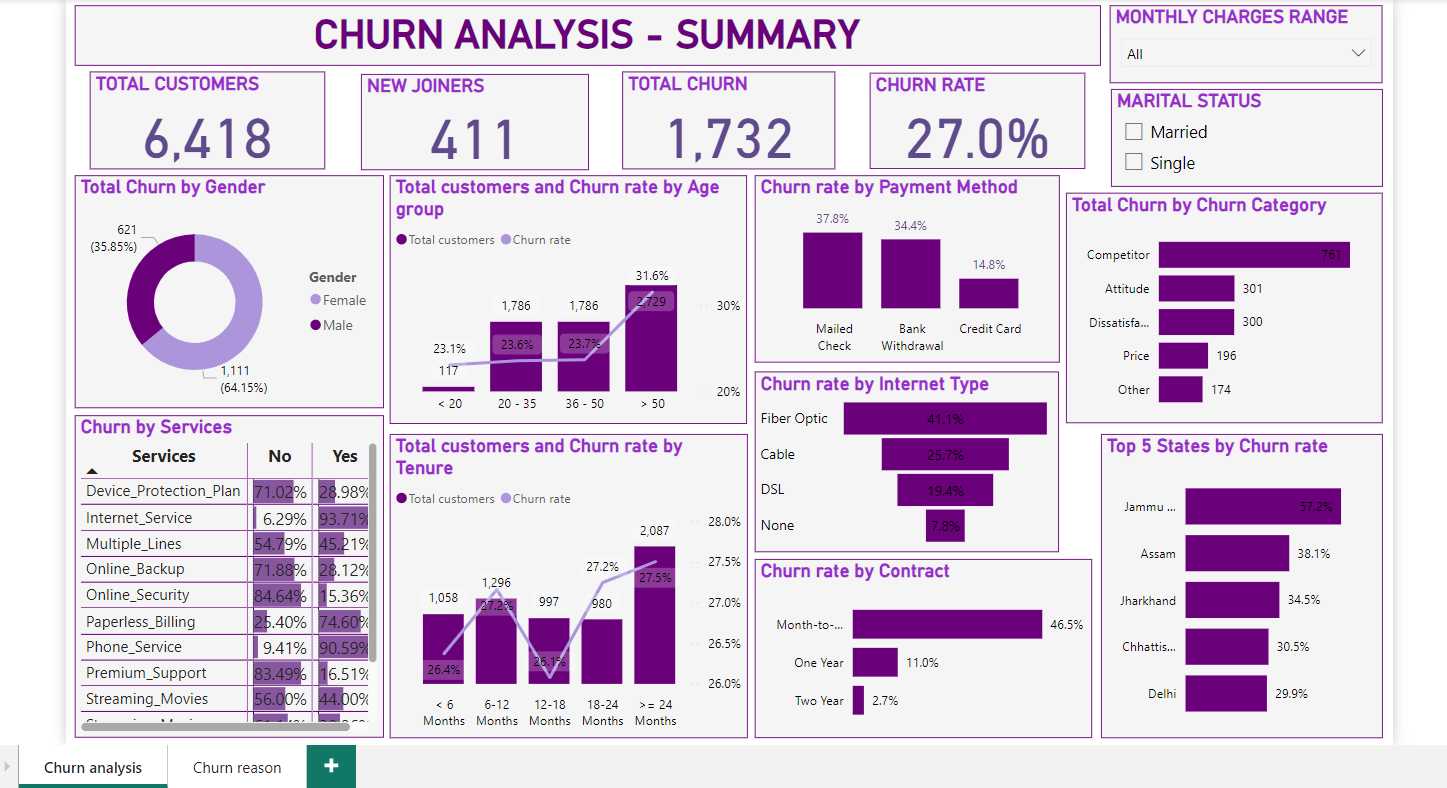

The page's visual inventory and layout, read from the dashboard file:
{"tool":"powerbi","page":{"name":"Churn analysis","canvas":[1280,720],"ordinal":0},"visuals":[{"type":"card","title":"TOTAL CUSTOMERS","fields":{"Values":["Table_measures.Total customers"]},"box":[22.9,70,227.1,94.3],"z":0},{"type":"card","title":"TOTAL CHURN","fields":{"Values":["Table_measures.Total Churn"]},"box":[537.1,70,205.7,94.3],"z":1000},{"type":"card","title":"NEW JOINERS","fields":{"Values":["Table_measures.New Joiners"]},"box":[284.3,72.9,220,92.9],"z":2000},{"type":"card","title":"CHURN RATE","fields":{"Values":["Table_measures.Churn rate"]},"box":[775.8,71.7,208.3,92.5],"z":3000},{"type":"donutChart","fields":{"Category":["Churn_details.Gender"],"Y":["Table_measures.Total Churn"]},"box":[8.3,170,298.3,225],"z":4000},{"type":"lineStackedColumnComboChart","title":"Total customers and Churn rate by Age group","fields":{"Category":["age_group.age group"],"Y2":["Table_measures.Churn rate"],"Y":["Table_measures.Total customers"]},"box":[312.5,170,345,240],"z":5000},{"type":"clusteredColumnChart","title":"Churn rate by Payment Method","fields":{"Category":["Churn_details.Payment_Method"],"Y":["Table_measures.Churn rate"]},"box":[664.2,170,294.2,180.8],"z":6000},{"type":"clusteredBarChart","fields":{"Category":["Churn_details.Contract"],"Y":["Table_measures.Churn rate"]},"box":[664.3,540,325.7,172.9],"z":7000},{"type":"lineStackedColumnComboChart","title":"Total customers and Churn rate by Tenure","fields":{"Y":["Table_measures.Total customers"],"Category":["tenure_group.tenure group"],"Y2":["Table_measures.Churn rate"]},"box":[312.1,419.3,345.7,293.6],"z":8000},{"type":"clusteredBarChart","title":"Top 5 States by Churn rate","fields":{"Category":["Churn_details.State"],"Y":["Table_measures.Churn rate"]},"box":[998.6,419.3,272.1,293.6],"z":9000},{"type":"clusteredBarChart","title":"Total Churn by Churn Category","fields":{"Category":["Churn_details.Churn_Category"],"Y":["Table_measures.Total Churn"]},"box":[965,186.7,305.8,222.5],"z":10000},{"type":"funnel","title":"Churn rate by Internet Type","fields":{"Category":["Churn_details.Internet_Type"],"Y":["Table_measures.Churn rate"]},"box":[664.2,360,293.3,174.2],"z":11000},{"type":"pivotTable","title":"Churn by Services","fields":{"Rows":["services.services"],"Columns":["services.status"],"Values":["Sum(services.Churn Status)"]},"box":[8.6,401.4,298.6,311.4],"z":12000},{"type":"slicer","title":"MONTHLY CHARGES RANGE","fields":{"Values":["Churn_details.Monthly Charge Range"]},"box":[1007.5,5.8,263.3,75],"z":13000},{"type":"slicer","title":"MARITAL STATUS","fields":{"Values":["Churn_details.Marital status"]},"box":[1008.3,86.7,262.5,94.2],"z":14000},{"type":"textbox","box":[8.6,5.7,990,58.6],"z":15000}]}

Visuals, with their boxes in screenshot pixels (x1, y1, x2, y2):
"TOTAL CUSTOMERS" card: Rect(84, 65, 320, 163)
"TOTAL CHURN" card: Rect(619, 65, 833, 163)
"NEW JOINERS" card: Rect(356, 68, 585, 165)
"CHURN RATE" card: Rect(867, 67, 1084, 163)
donutChart - Churn_details.Gender x Table_measures.Total Churn: Rect(69, 169, 379, 403)
"Total customers and Churn rate by Age group" lineStackedColumnComboChart: Rect(385, 169, 744, 419)
"Churn rate by Payment Method" clusteredColumnChart: Rect(751, 169, 1057, 357)
clusteredBarChart - Churn_details.Contract x Table_measures.Churn rate: Rect(751, 554, 1090, 734)
"Total customers and Churn rate by Tenure" lineStackedColumnComboChart: Rect(385, 429, 745, 734)
"Top 5 States by Churn rate" clusteredBarChart: Rect(1099, 429, 1382, 734)
"Total Churn by Churn Category" clusteredBarChart: Rect(1064, 187, 1383, 418)
"Churn rate by Internet Type" funnel: Rect(751, 367, 1057, 548)
"Churn by Services" pivotTable: Rect(69, 410, 380, 734)
"MONTHLY CHARGES RANGE" slicer: Rect(1109, 0, 1383, 77)
"MARITAL STATUS" slicer: Rect(1109, 83, 1383, 181)
textbox: Rect(69, 0, 1099, 59)
